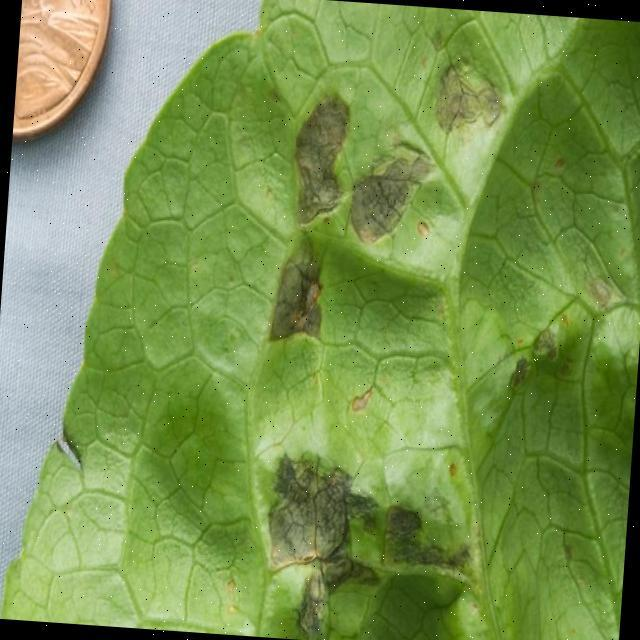Healthy: (241, 29, 532, 640)
